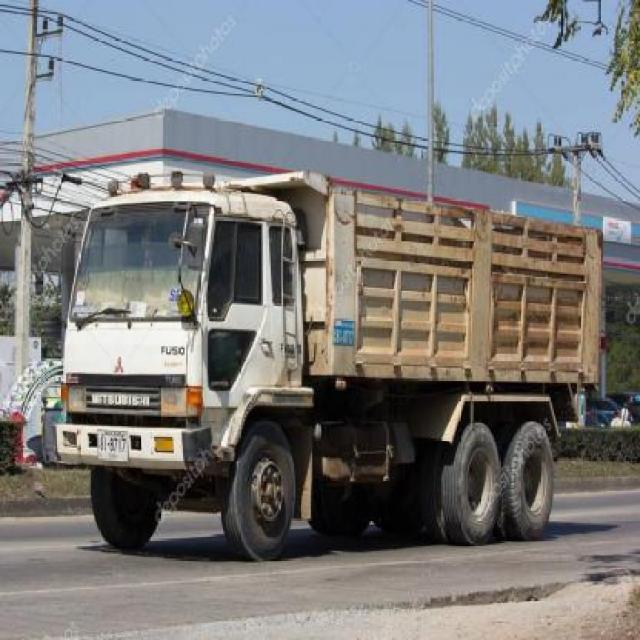truck: (52, 172, 599, 556)
